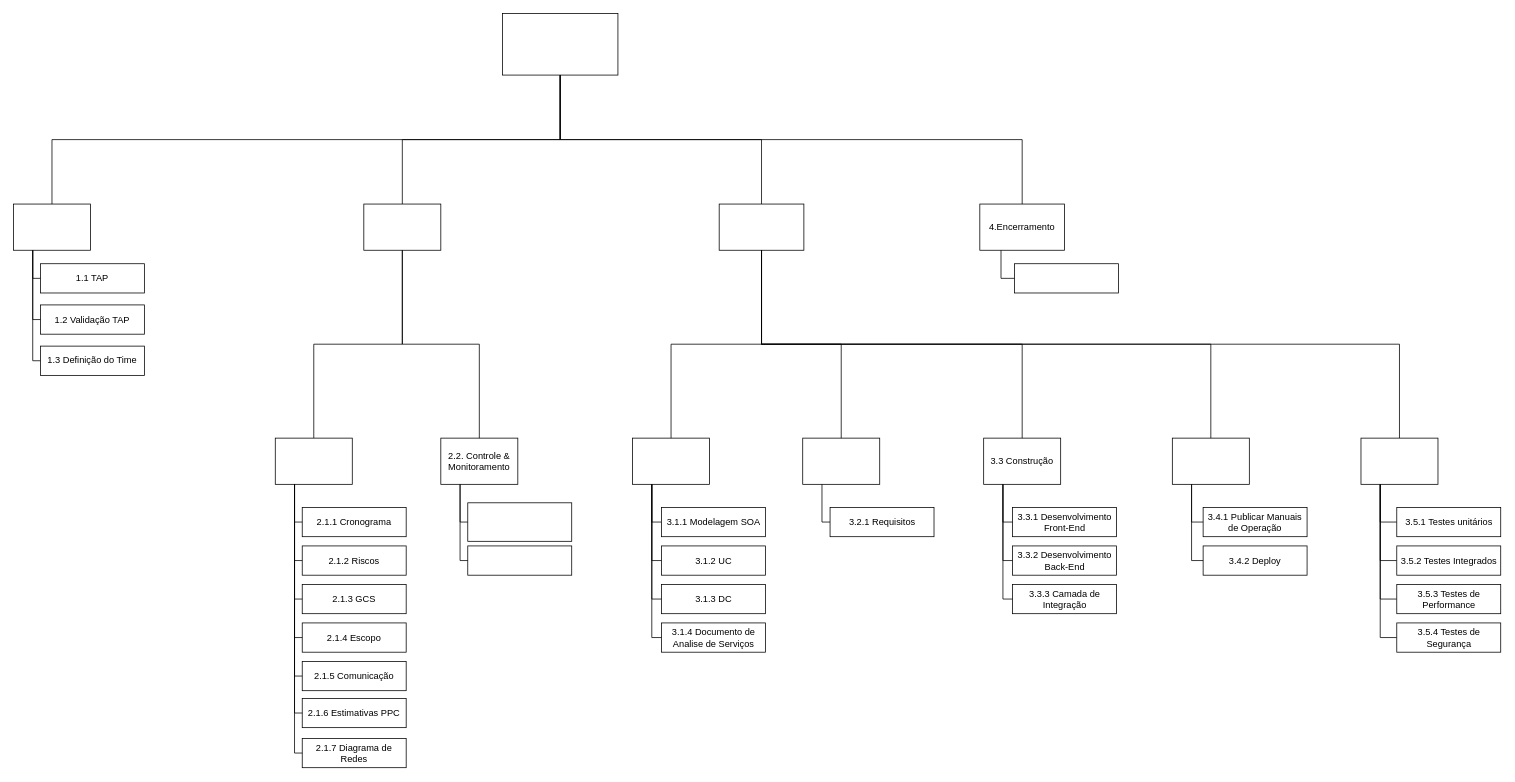
Some shapes in this 1515 by 782 pixel diagram are drawn without their labels. Here are the shapes that lost their labels. From the top down, the box of each, then its label:
(502, 13, 618, 75): Projeto SigmaPay
(13, 203, 90, 250): 1.Iniciação
(363, 203, 441, 250): 2.Gerenciamento
(718, 203, 804, 250): 3.Desenvolvimento
(1014, 263, 1118, 293): 4.1 TAC
(275, 437, 352, 484): 2.1. Planejamento
(632, 437, 710, 484): 3.1 Modelagem
(802, 437, 880, 484): 3.2 Especificação
(1172, 437, 1249, 484): 3.4 Implantação
(1360, 437, 1438, 484): 3.5 Verificação
(467, 502, 572, 541): 2.2.1 Validação dos Documentos por Parte do Cliente
(467, 545, 572, 575): 2.2.2 AVA
